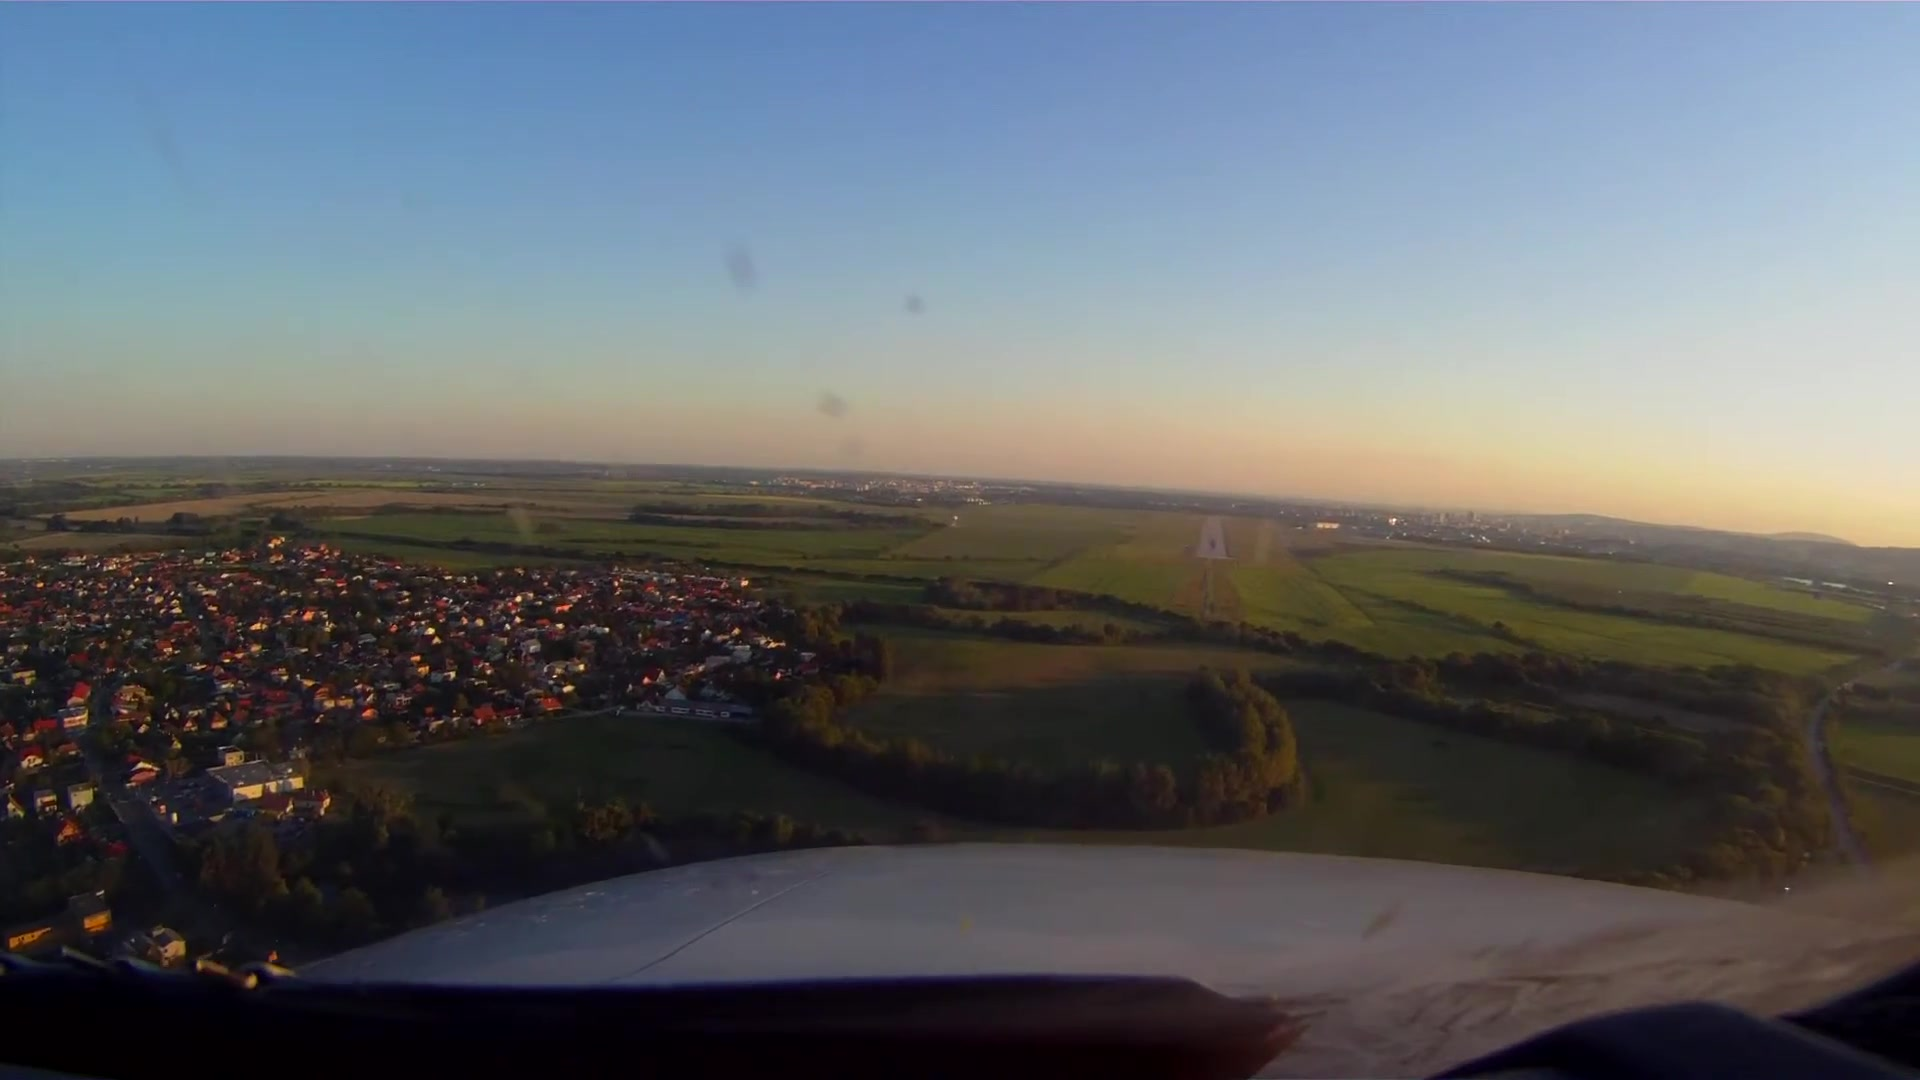runway: (1193, 514, 1232, 562)
